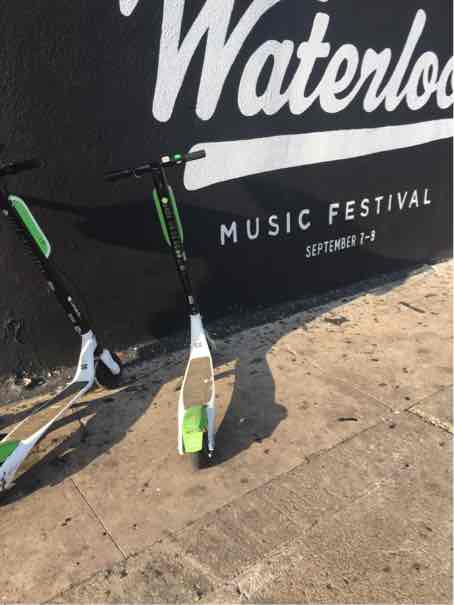scooter: (97, 128, 245, 490)
